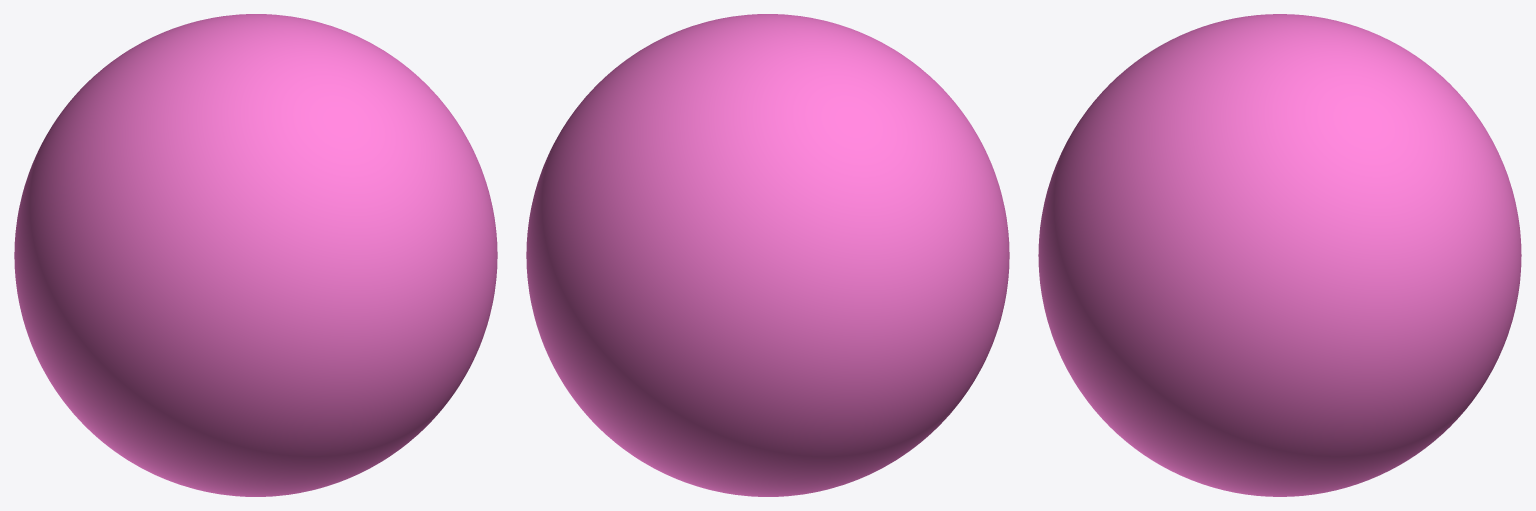
The model's file is pearl.fbx.
The picture shows the model from 3 angles, left to right: view 1: azimuth 30°, elevation 25°; view 2: azimuth 150°, elevation 25°; view 3: azimuth 270°, elevation 25°; orthographic projection.
Visible parts, largest first — view 1: biser; view 2: biser; view 3: biser.
Boxes of the visible parts, x1=… form: biser: x1=14, y1=14, x2=497, y2=496; biser: x1=526, y1=14, x2=1009, y2=496; biser: x1=1038, y1=14, x2=1521, y2=496.
Size of the model in its own units: 171 by 171 by 171.
